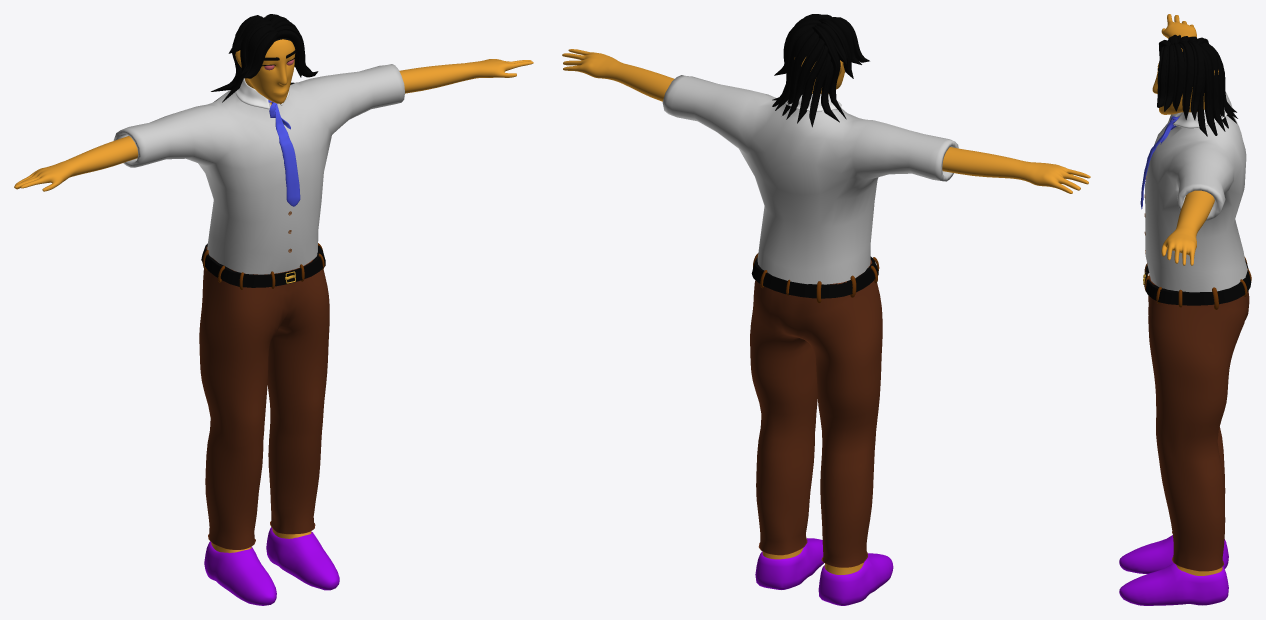
File: Grim Life Character_low.fbx
3 renders of one model, left to right at view 1: azimuth 30°, elevation 25°; view 2: azimuth 150°, elevation 25°; view 3: azimuth 270°, elevation 25°, orthographic. The views are drawn at different scales.
Visible parts, largest first — view 1: Pants_low, Shirt_low, Body_low, Shoes_low, Hair_low, Belt_low, Necktie_low; view 2: Pants_low, Shirt_low, Body_low, Hair_low, Shoes_low, Belt_low; view 3: Pants_low, Shirt_low, Hair_low, Shoes_low, Body_low, Belt_low, Necktie_low, Belt loops_low, Collar_low.
Boxes of the visible parts, left/top/right/bottom form: Pants_low: left=199, top=246, right=329, bottom=549; Shirt_low: left=113, top=64, right=404, bottom=274; Body_low: left=14, top=39, right=533, bottom=553; Shoes_low: left=204, top=527, right=339, bottom=605; Hair_low: left=211, top=14, right=318, bottom=102; Belt_low: left=201, top=243, right=325, bottom=287; Necktie_low: left=268, top=100, right=300, bottom=206; Pants_low: left=750, top=260, right=882, bottom=567; Shirt_low: left=662, top=75, right=958, bottom=284; Body_low: left=562, top=49, right=1090, bottom=574; Hair_low: left=772, top=14, right=869, bottom=127; Shoes_low: left=755, top=538, right=893, bottom=605; Belt_low: left=751, top=256, right=878, bottom=298; Pants_low: left=1148, top=274, right=1249, bottom=571; Shirt_low: left=1145, top=91, right=1247, bottom=292; Hair_low: left=1157, top=34, right=1237, bottom=136; Shoes_low: left=1119, top=535, right=1228, bottom=605; Body_low: left=1152, top=14, right=1222, bottom=575; Belt_low: left=1144, top=259, right=1251, bottom=305; Necktie_low: left=1140, top=116, right=1179, bottom=209; Belt loops_low: left=1144, top=257, right=1251, bottom=309; Collar_low: left=1173, top=108, right=1227, bottom=128.
Size of the model in its own units: 189 by 195 by 42.8.
